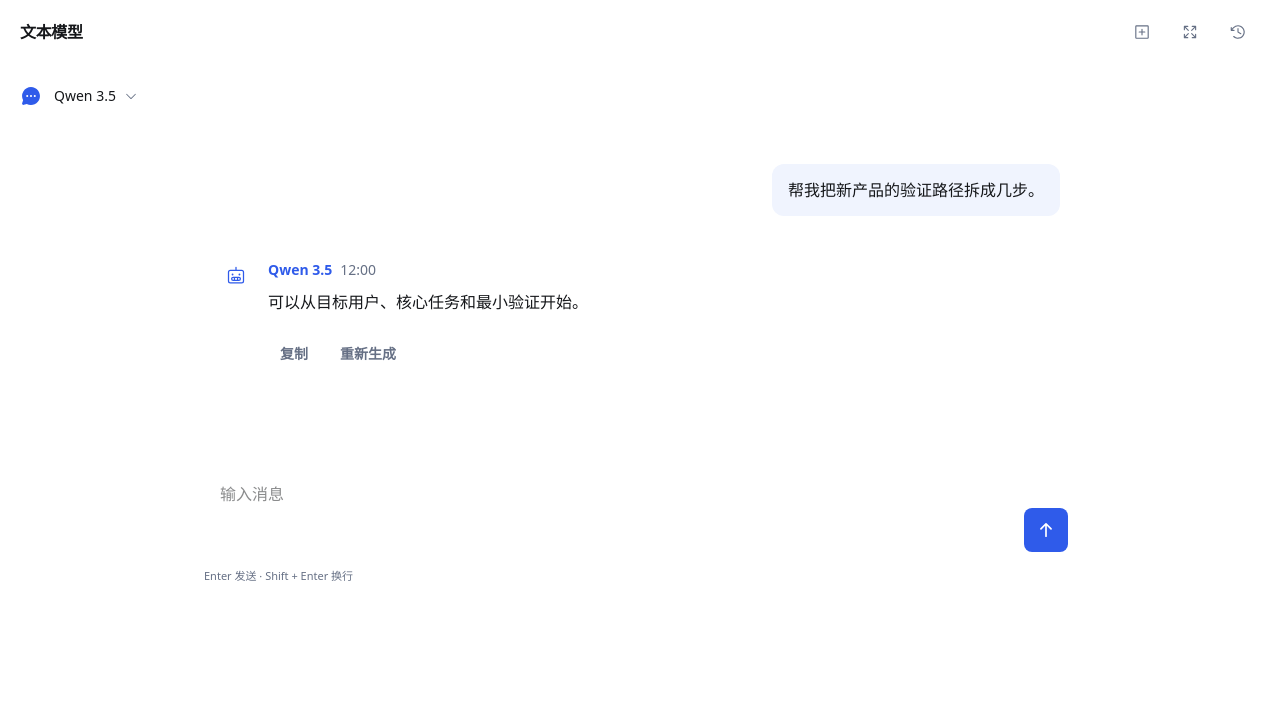
ChatWorkspace › filters conversations by title or preview with an accessible toggle
The image size is (1280, 720).
Expected: the heading "文本模型" is shown, [20,21,83,43]
Step 1. Click the button named "打开会话列表" → click(1238, 32), box [1216,10,1260,54]
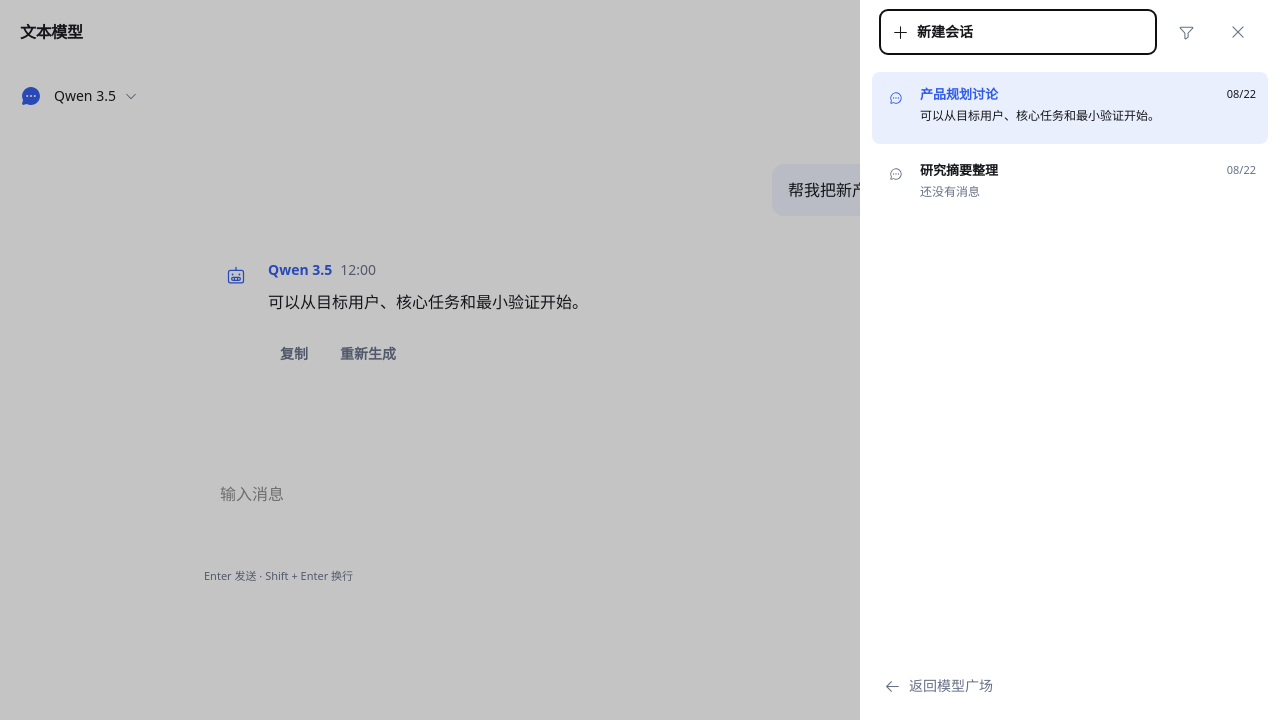
Step 2. Click the button named "筛选会话" → click(1186, 32), box [1164,10,1208,54]
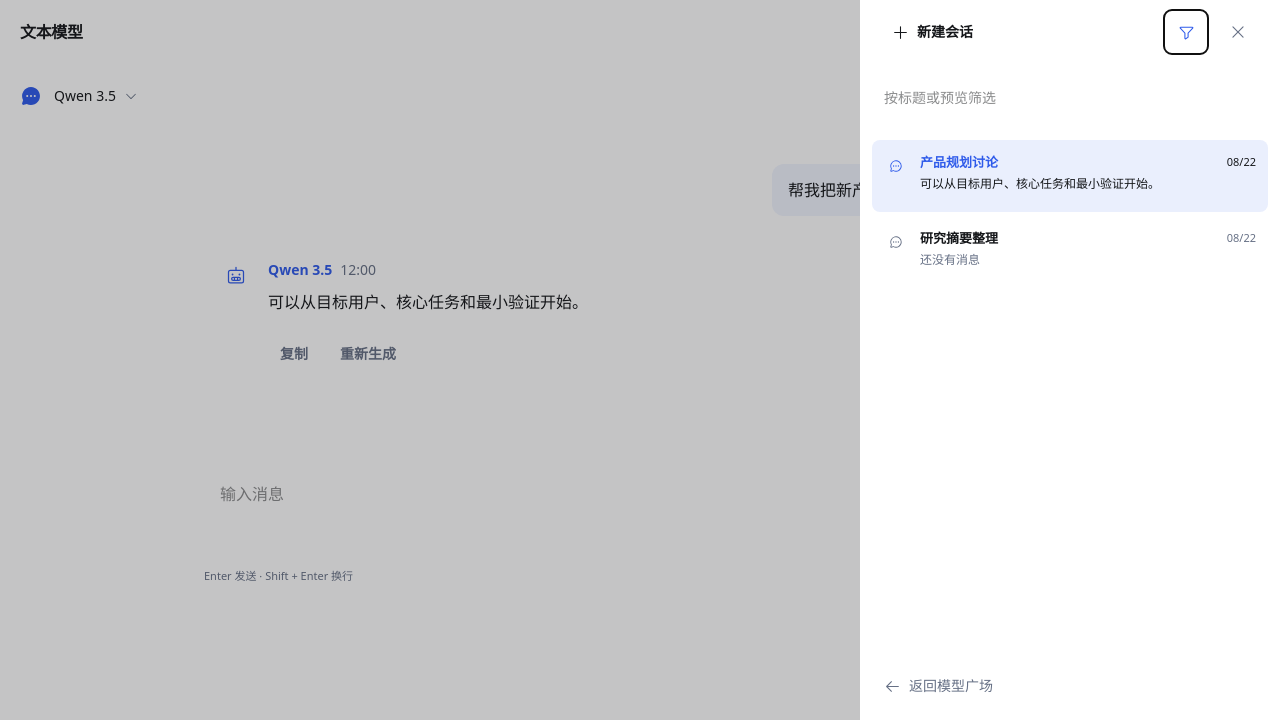
Expected: the button named "筛选会话" is expanded, [1164,10,1208,54]
Step 3. Type "研究" into the search field named "筛选会话" → (1070, 98), box [872,76,1268,120]
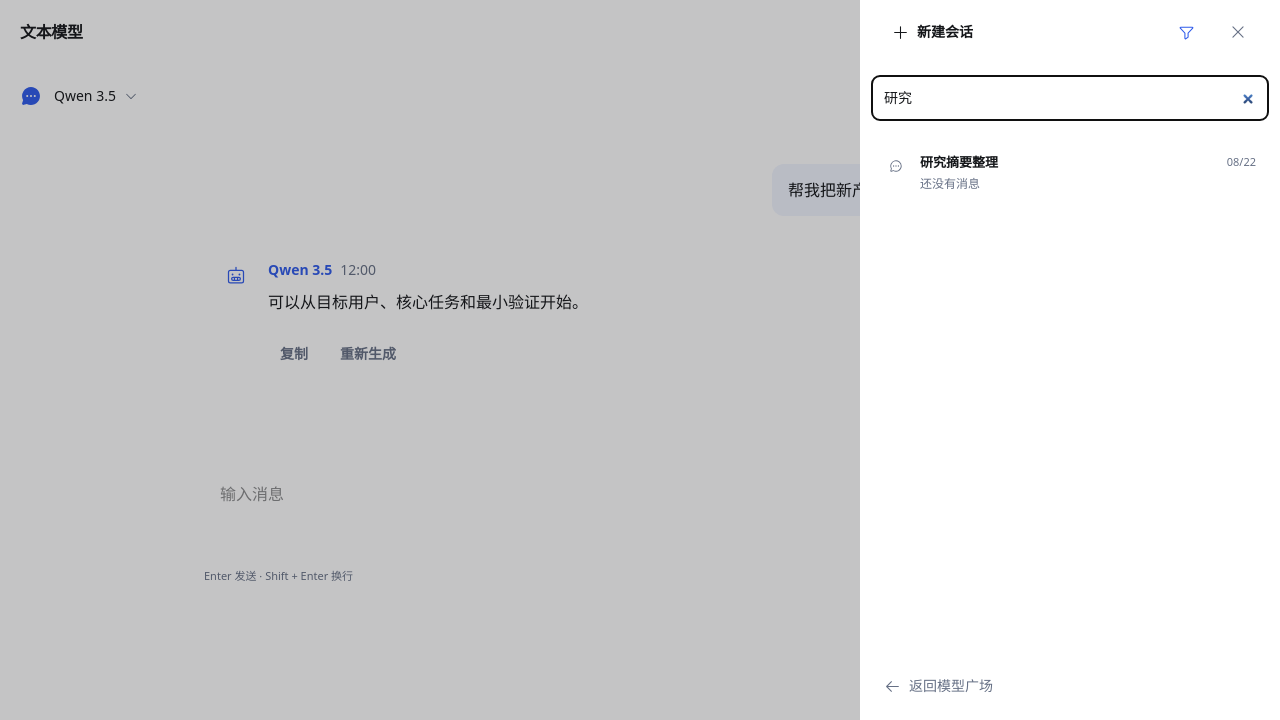
Expected: the text "研究摘要整理" is shown, [920,153,998,171]
Expected: the button "产品规划讨论" is gone
